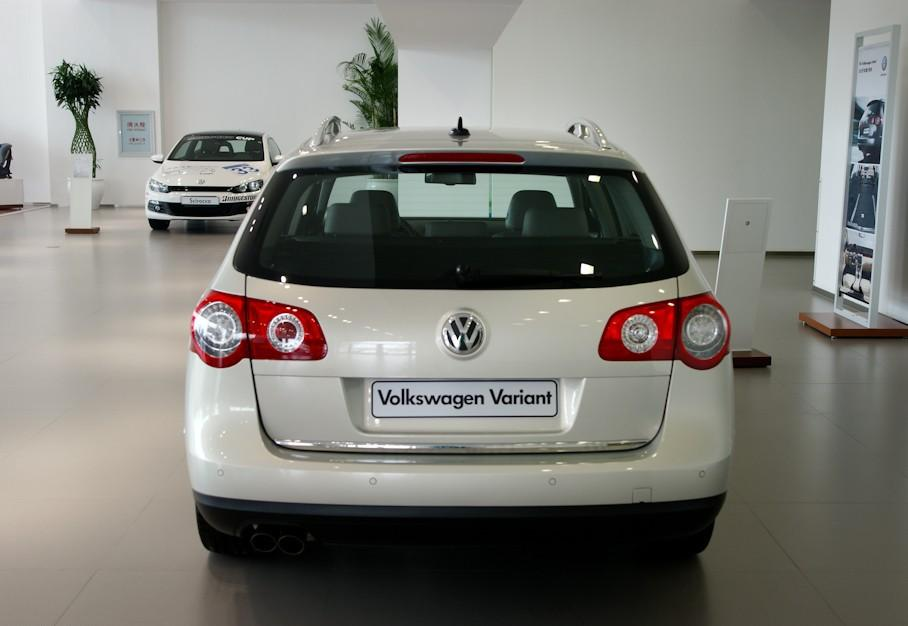Wagon: (185, 128, 734, 559)
